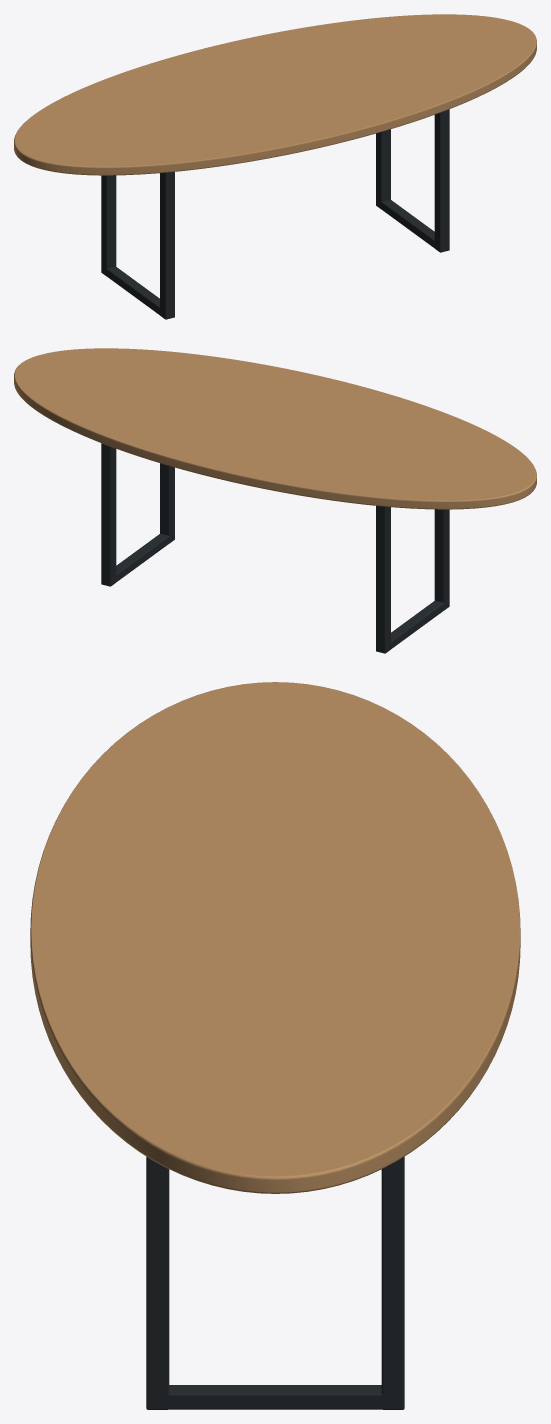
File: meetingTable-5.glb
The picture shows the model from 3 angles, top to bottom: view 1: azimuth 30°, elevation 25°; view 2: azimuth 150°, elevation 25°; view 3: azimuth 270°, elevation 25°; orthographic projection. The views are drawn at different scales.
Parts seen in each view (by area): view 1: meetingTable:5:archviz; view 2: meetingTable:5:archviz; view 3: meetingTable:5:archviz.
Part boxes in pixels (x1,y1,x2,y2): meetingTable:5:archviz: (14,14,536,319); meetingTable:5:archviz: (14,348,536,653); meetingTable:5:archviz: (30,682,520,1409).
Bounding box in the file's own units: 2.3 × 0.74 × 0.96.
